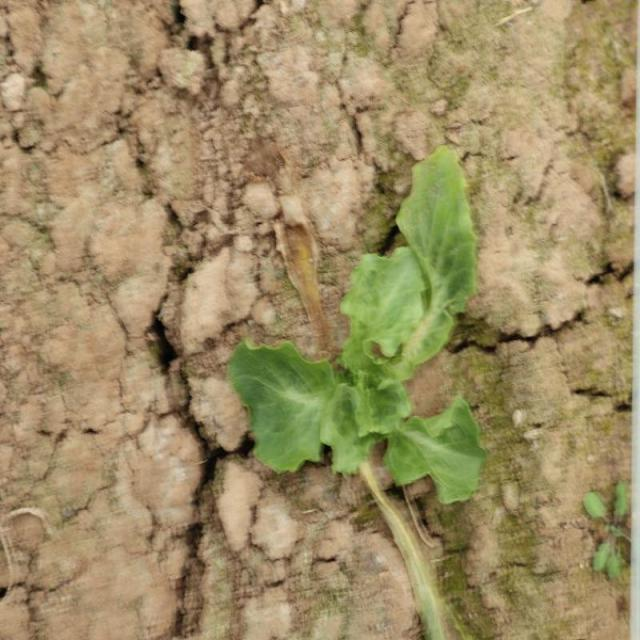crop: (226, 147, 488, 508)
